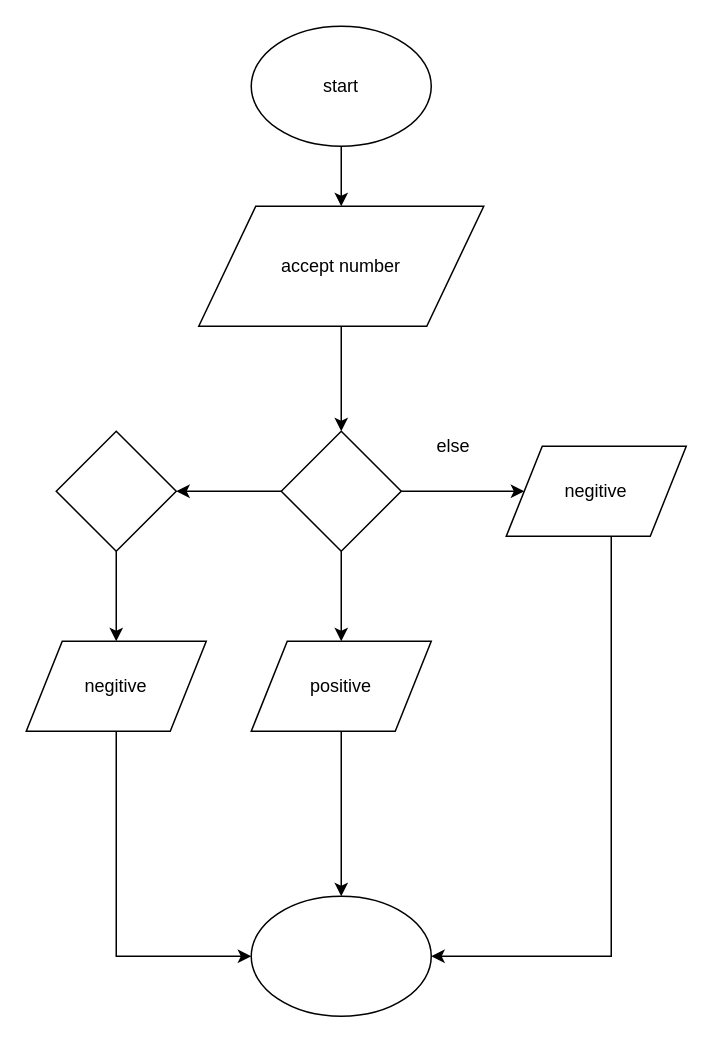
Some shapes in this 713 by 1043 pixel diagram are drawn without their labels. Here are the shapes that lost their labels. From the top down, the centre of each, then its label:
point 115,490: number<0
point 340,490: number>0
point 340,955: stop
